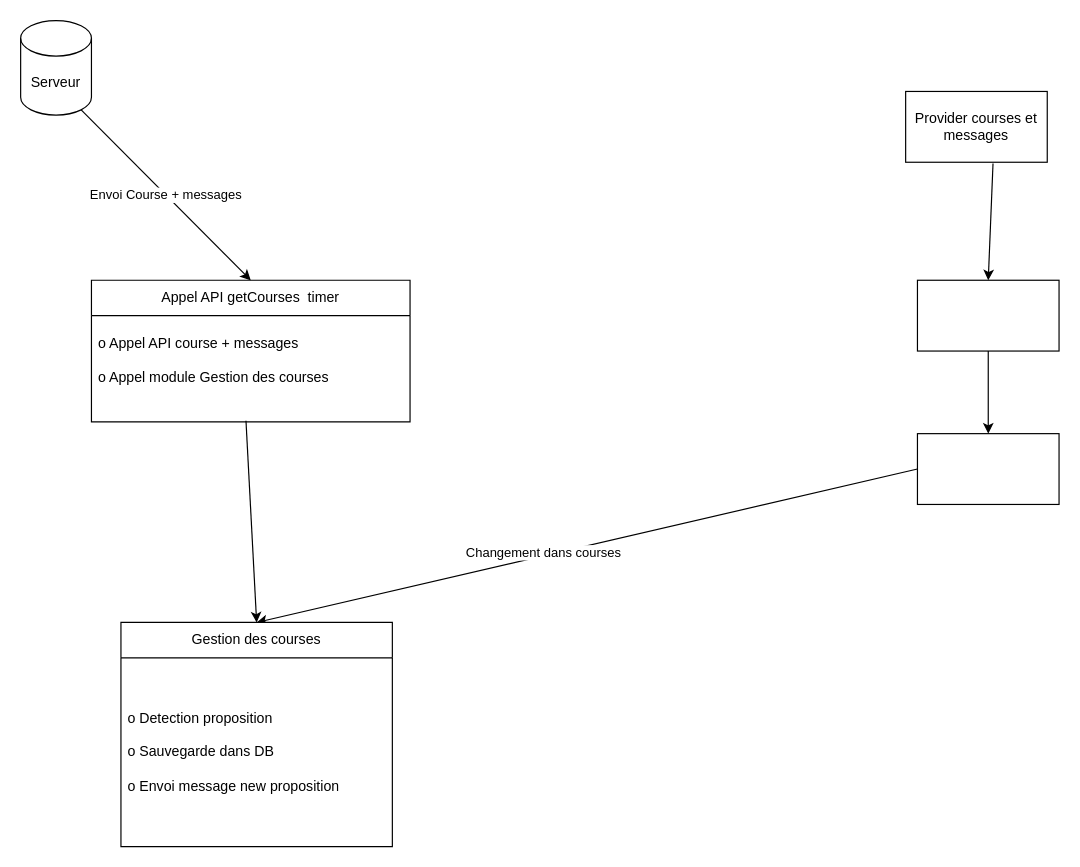
Image size: 1080x867. Some labels were removed from this diagram. Each missing label, with the centre of its shape:
"Action courses" goes at (987,468).
"Affichage courses" goes at (987,315).
